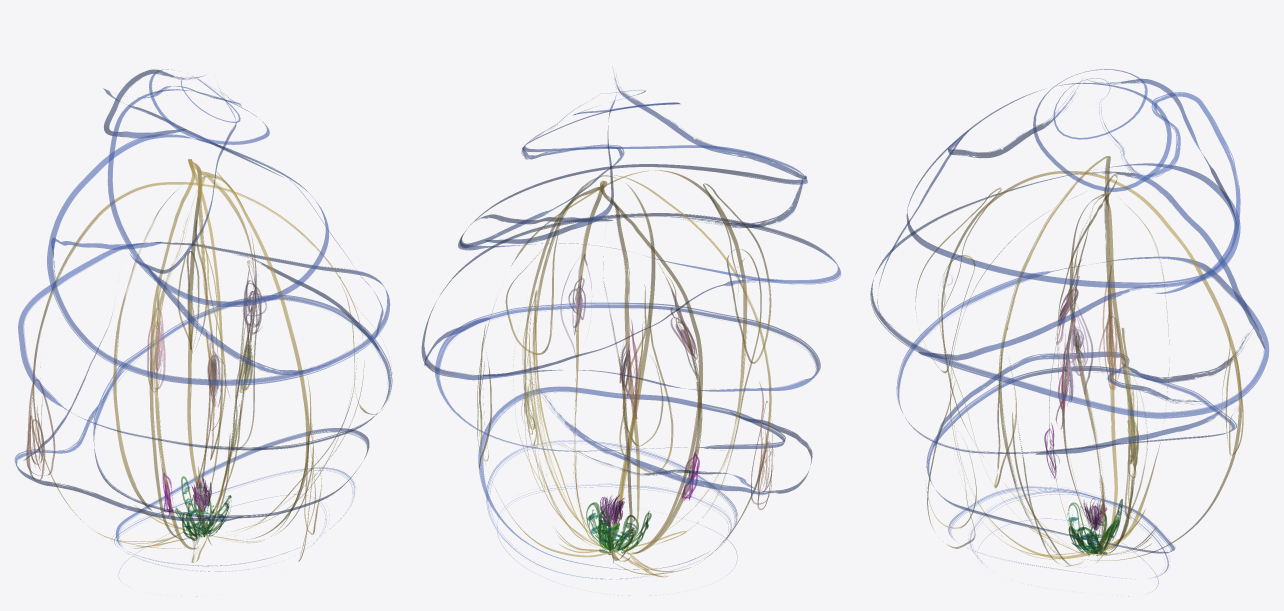
3 views of the same model, side by side, from view 1: azimuth 30°, elevation 25°; view 2: azimuth 150°, elevation 25°; view 3: azimuth 270°, elevation 25° (orthographic). The views are drawn at different scales.
Parts seen in each view (by area): view 1: brush_VelvetInk_g0_b0_0; view 2: brush_VelvetInk_g0_b0_0; view 3: brush_VelvetInk_g0_b0_0.
Part boxes in pixels (<box>): brush_VelvetInk_g0_b0_0: <box>14,69,392,596</box>; brush_VelvetInk_g0_b0_0: <box>421,67,840,595</box>; brush_VelvetInk_g0_b0_0: <box>870,69,1268,596</box>.
Size of the model in its own units: 2.78 by 4.23 by 2.75.
Materials: 1 (1 with a texture image).
